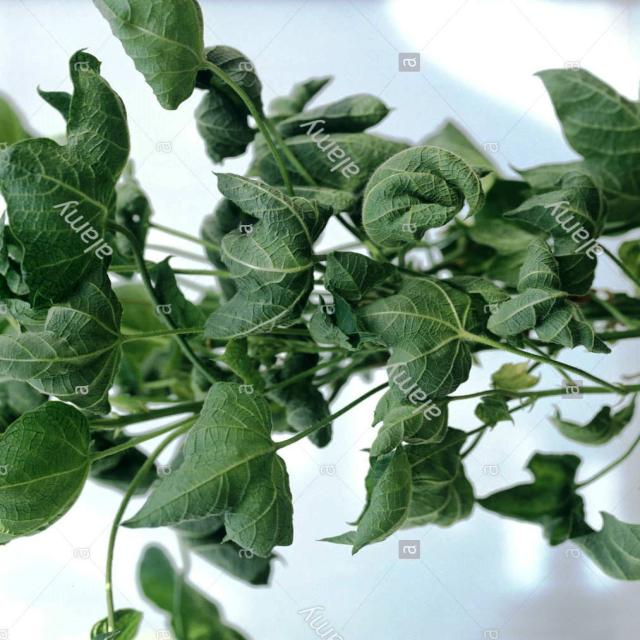Leaf Curl Virus: (15, 69, 604, 473)
